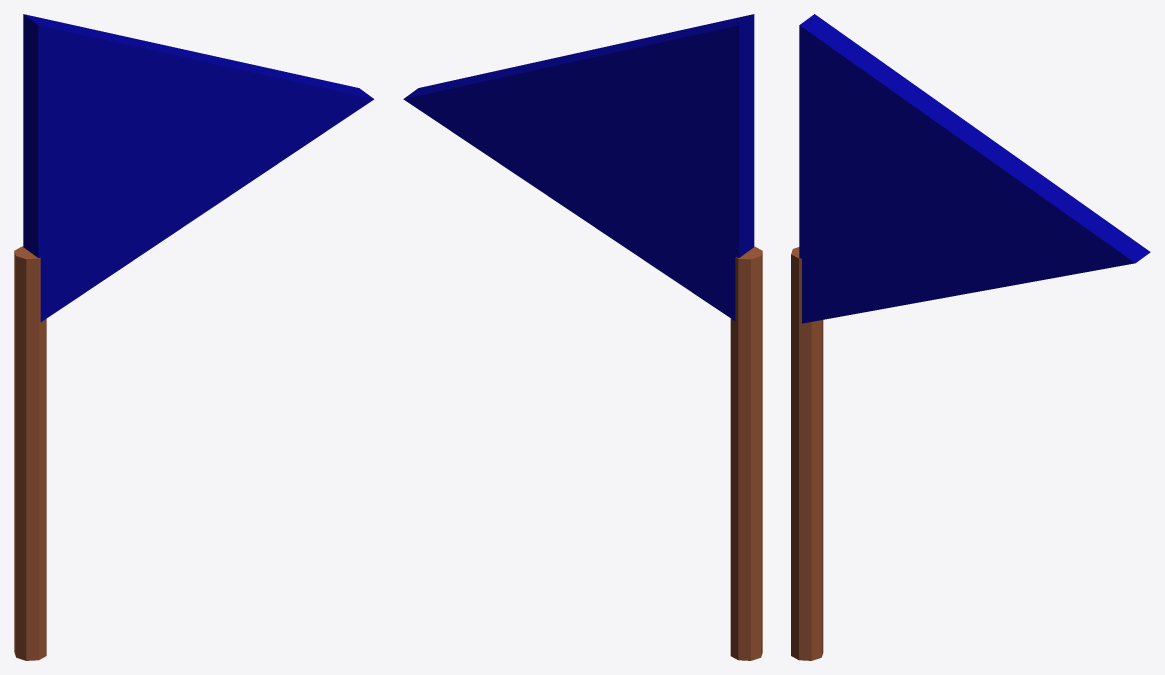
The model's file is BlueFlag.fbx.
The picture shows the model from 3 angles, left to right: view 1: azimuth 30°, elevation 25°; view 2: azimuth 150°, elevation 25°; view 3: azimuth 330°, elevation 25°; orthographic projection.
Parts seen in each view (by area): view 1: BlueFlag; view 2: BlueFlag; view 3: BlueFlag.
Part boxes in pixels (x1,y1,x2,y2): BlueFlag: (14,14,373,660); BlueFlag: (403,14,762,660); BlueFlag: (791,14,1150,660).
Bounding box in the file's own units: 109 × 188 × 8.96.
Materials: 1 (1 with a texture image).
